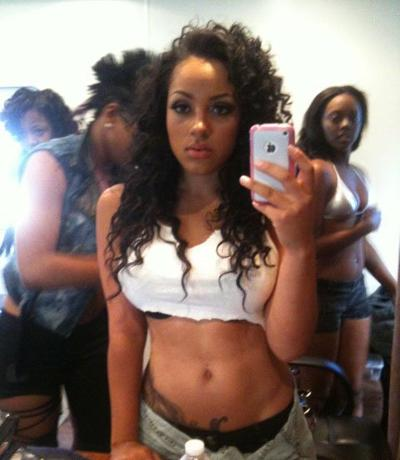person: (96, 23, 321, 460)
